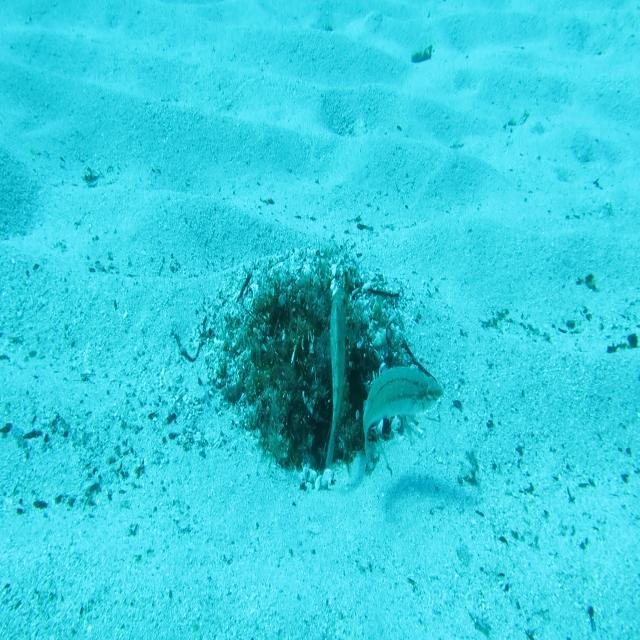FAN: (312, 283, 359, 480)
core_nest: (283, 296, 337, 342)
female: (360, 359, 444, 473)
nest: (198, 237, 425, 495)
vegetation: (408, 44, 436, 66)
